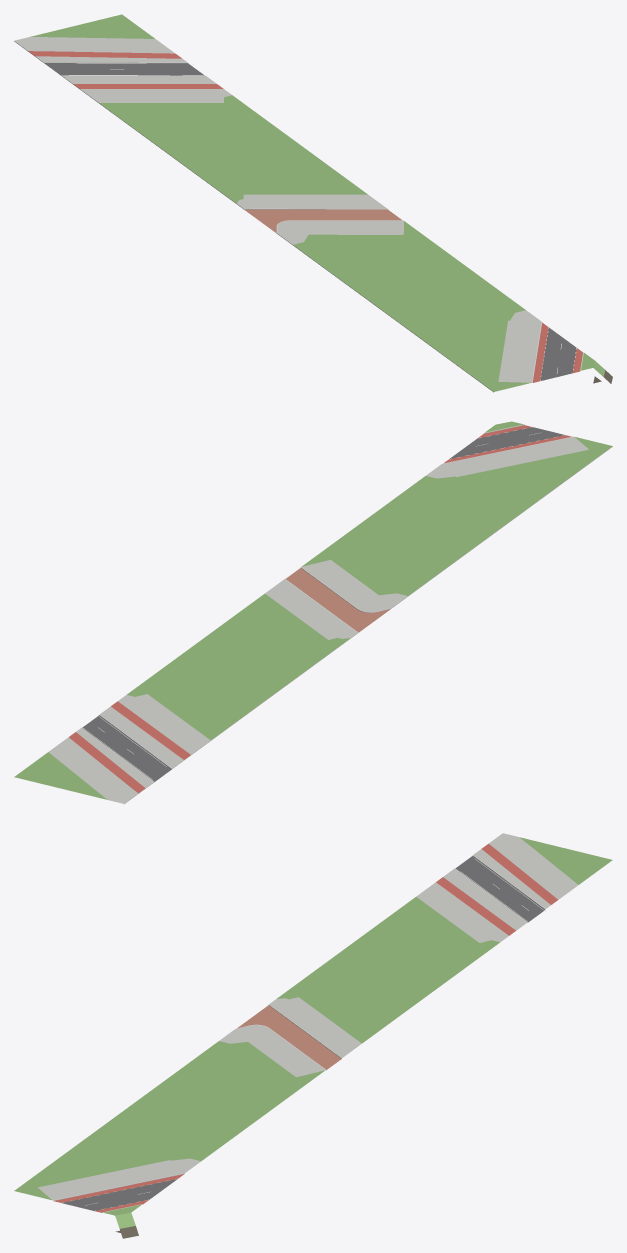
The model's file is ground_3_6.glb.
The picture shows the model from 3 angles, top to bottom: view 1: azimuth 30°, elevation 25°; view 2: azimuth 150°, elevation 25°; view 3: azimuth 330°, elevation 25°; orthographic projection.
Visible parts, largest first — view 1: ground_3_6; view 2: ground_3_6; view 3: ground_3_6.
Boxes of the visible parts, x1,y1,x2,y2 form: ground_3_6: (14,14,612,392); ground_3_6: (14,421,612,804); ground_3_6: (14,833,612,1238).
Bounding box in the file's own units: 29.1 × 3.62 × 202.
